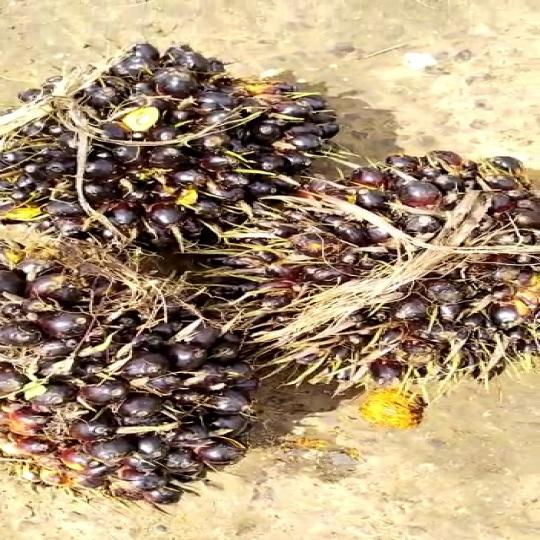mentah: (2, 24, 318, 274), (227, 147, 532, 402), (0, 248, 267, 506)
